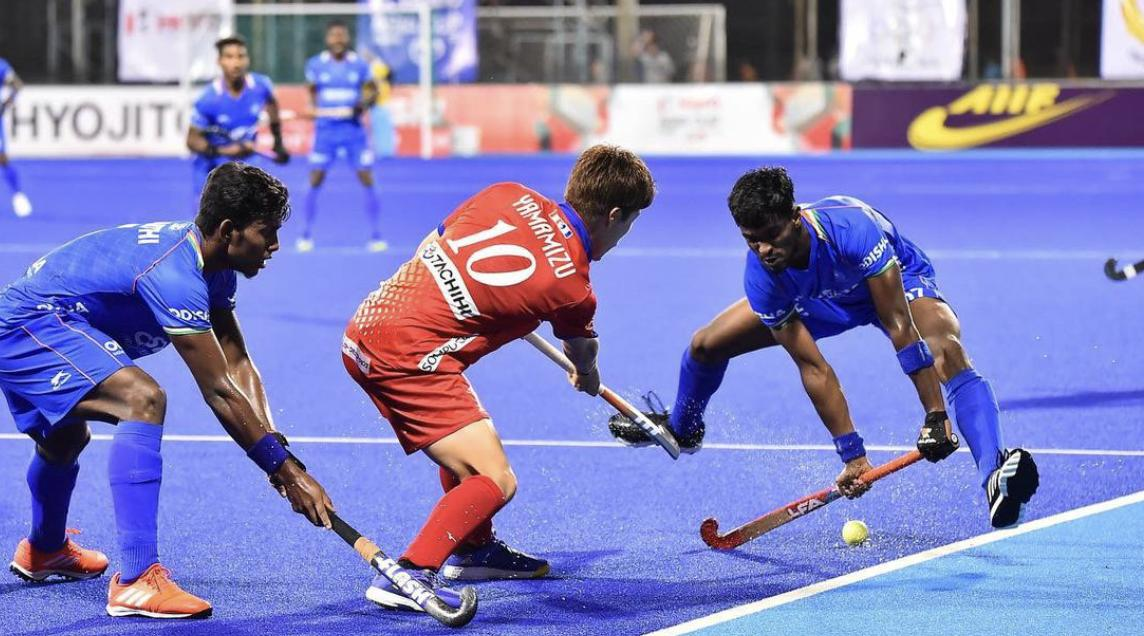ball: (834, 510, 883, 563)
